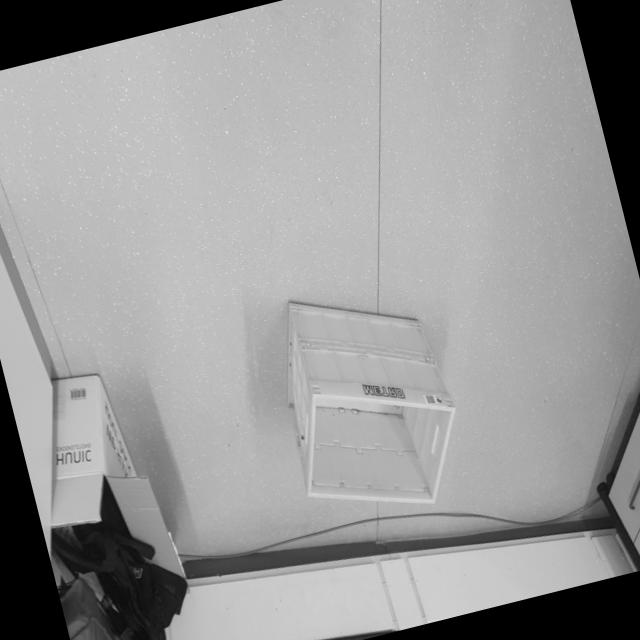box: (245, 240, 480, 538)
